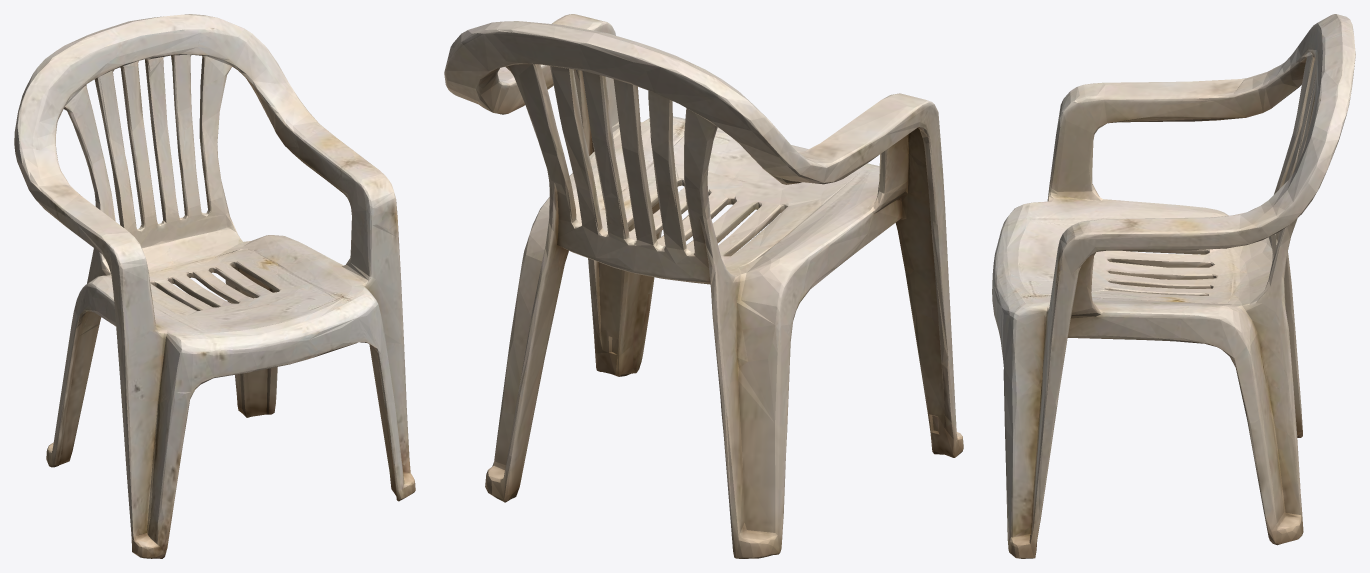
The model's file is plasticchair.glb.
3 renders of one model, left to right at view 1: azimuth 30°, elevation 25°; view 2: azimuth 150°, elevation 25°; view 3: azimuth 270°, elevation 25°, orthographic. The views are drawn at different scales.
Parts seen in each view (by area): view 1: tripo_node_d96abede-5cab-40f3-ab41-3238191afc40; view 2: tripo_node_d96abede-5cab-40f3-ab41-3238191afc40; view 3: tripo_node_d96abede-5cab-40f3-ab41-3238191afc40.
Part boxes in pixels (x1,y1,x2,y2): tripo_node_d96abede-5cab-40f3-ab41-3238191afc40: [14, 14, 415, 558]; tripo_node_d96abede-5cab-40f3-ab41-3238191afc40: [444, 14, 963, 558]; tripo_node_d96abede-5cab-40f3-ab41-3238191afc40: [992, 14, 1355, 558].
Bounding box in the file's own units: 0.7343 × 1 × 0.741.
Materials: 1 (1 with a texture image).
